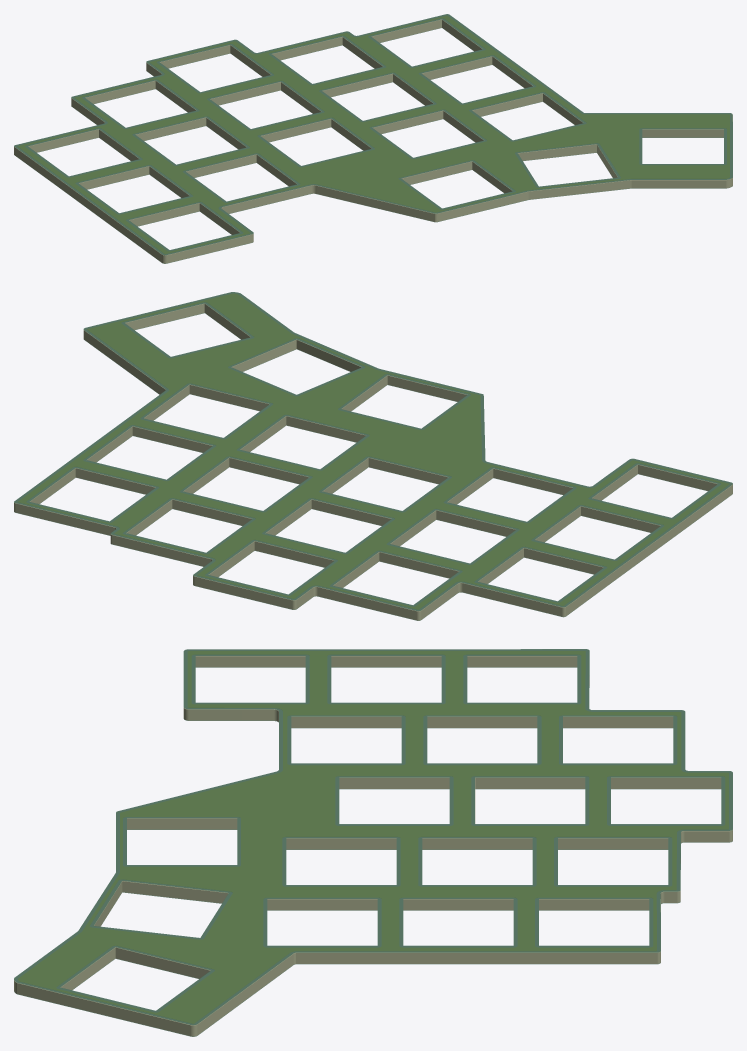
The model's file is board.glb.
3 renders of one model, top to bottom at view 1: azimuth 30°, elevation 25°; view 2: azimuth 150°, elevation 25°; view 3: azimuth 270°, elevation 25°, orthographic. The views are drawn at different scales.
Parts seen in each view (by area): view 1: board_soldermask (×2), board_PCB, board_copper; view 2: board_soldermask (×2), board_PCB, board_copper; view 3: board_soldermask (×2), board_copper, board_PCB.
Boxes of the visible parts, x1,y1,x2,y2 form: board_soldermask (×2): (14,14,732,263); board_PCB: (14,15,732,263); board_copper: (18,16,729,253); board_soldermask (×2): (14,292,732,620); board_PCB: (14,293,732,620); board_copper: (19,294,728,609); board_soldermask (×2): (14,649,732,1036); board_copper: (18,651,728,1023); board_PCB: (14,650,732,1036).
Size of the model in its own units: 0.1114 by 0.00161 by 0.09.
